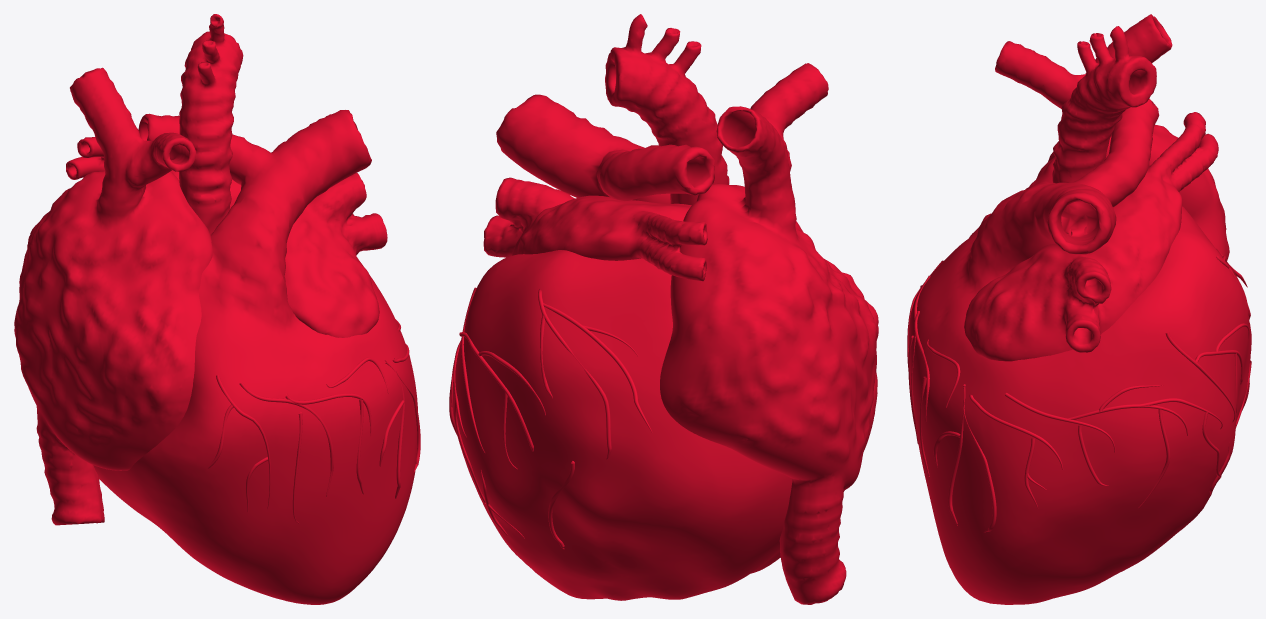
File: HeartModel.fbx
3 views of the same model, side by side, from view 1: azimuth 30°, elevation 25°; view 2: azimuth 150°, elevation 25°; view 3: azimuth 270°, elevation 25° (orthographic). The views are drawn at different scales.
Visible parts, largest first — view 1: BezierCurve; view 2: BezierCurve; view 3: BezierCurve.
Part boxes in pixels (x1=…): BezierCurve: x1=14, y1=14, x2=420, y2=604; BezierCurve: x1=449, y1=14, x2=878, y2=604; BezierCurve: x1=907, y1=14, x2=1251, y2=604.
Size of the model in its own units: 205 by 317 by 180.
